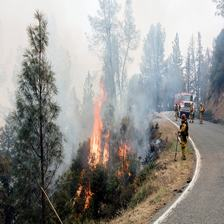fire: (70, 74, 138, 204)
